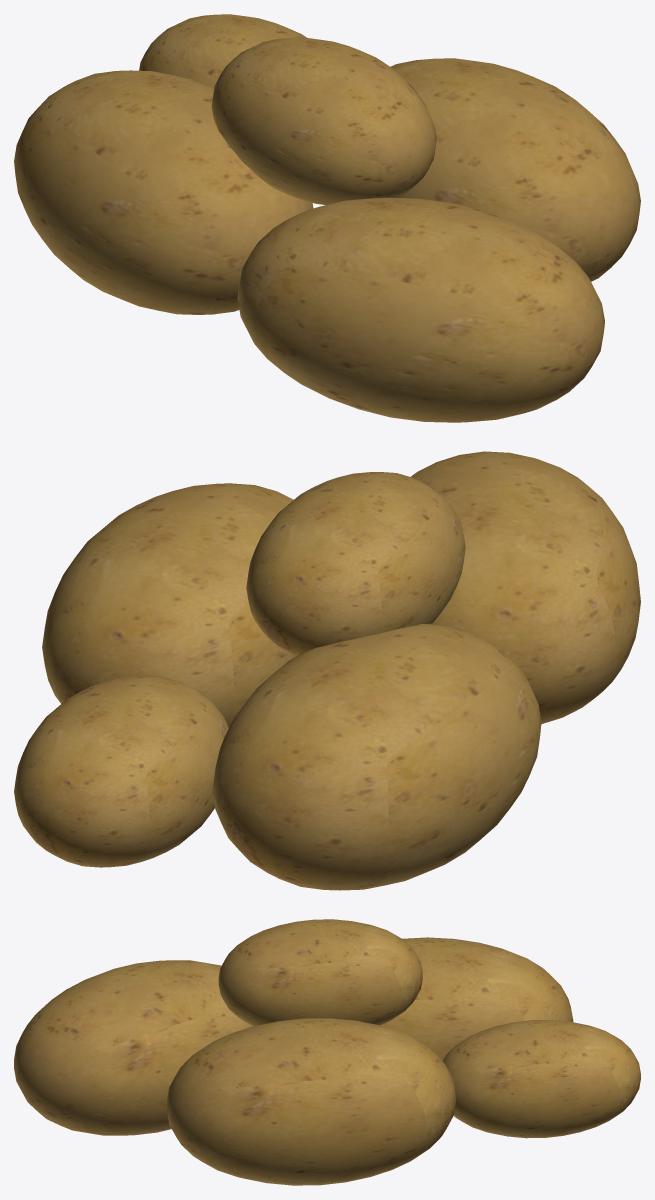
The model's file is potatoes.fbx.
3 views of the same model, one above another, from view 1: azimuth 30°, elevation 25°; view 2: azimuth 150°, elevation 25°; view 3: azimuth 270°, elevation 25° (orthographic). The views are drawn at different scales.
Visible parts, largest first — view 1: pCube16; view 2: pCube16; view 3: pCube16.
Boxes of the visible parts, left/top/right/bottom form: pCube16: left=14, top=14, right=640, bottom=422; pCube16: left=14, top=451, right=640, bottom=890; pCube16: left=14, top=919, right=640, bottom=1185.
Bounding box in the file's own units: 1.78 × 0.9464 × 2.73.
1 material, 1 textured.
